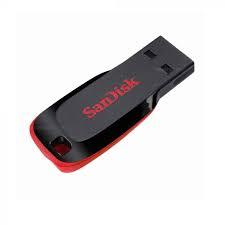Flash-drive: (4, 5, 212, 186)
